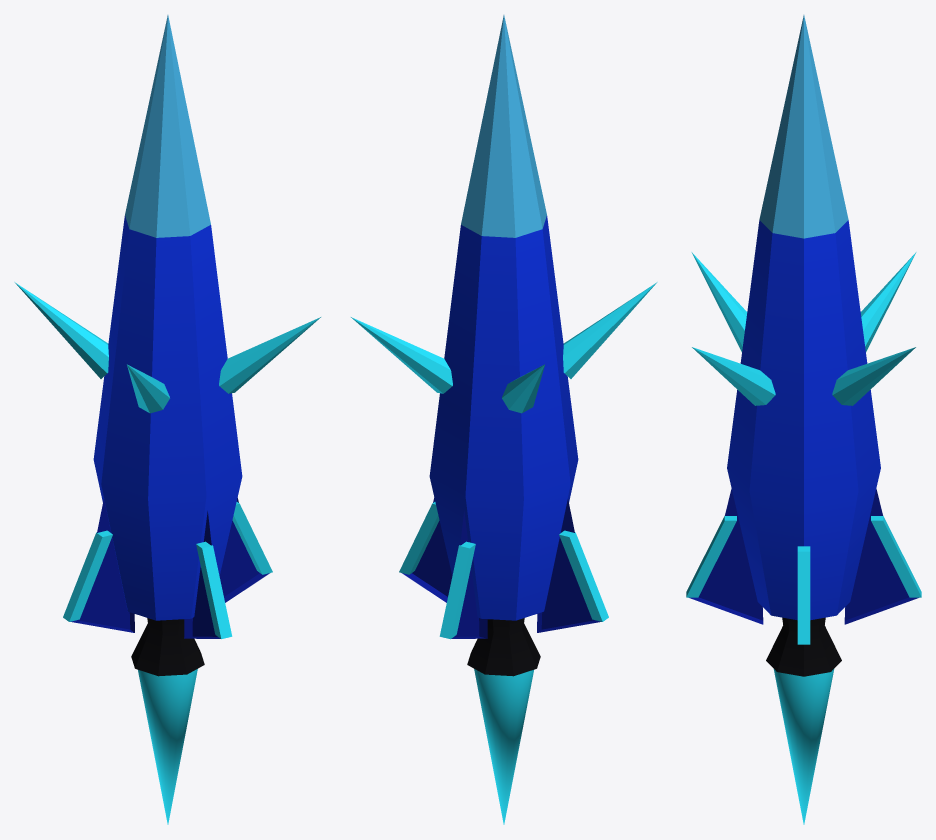
Rendered from Rocket_38_GlacierCrystal.obj.
The picture shows the model from 3 angles, left to right: view 1: azimuth 30°, elevation 25°; view 2: azimuth 150°, elevation 25°; view 3: azimuth 270°, elevation 25°; orthographic projection.
Parts seen in each view (by area): view 1: R38_Body, R38_Nose, R38_Flame_1, R38_Nozzle_1, R38_Fin_2, R38_Spike_4, R38_Spike_2, R38_Fin_4, R38_FinGlow_3, R38_FinGlow_2, R38_Fin_3, R38_Spike_3 (+1 smaller); view 2: R38_Body, R38_Nose, R38_Flame_1, R38_Nozzle_1, R38_Fin_2, R38_Spike_1, R38_Spike_3, R38_Fin_4, R38_FinGlow_1, R38_FinGlow_2, R38_Fin_1, R38_Spike_2 (+1 smaller); view 3: R38_Body, R38_Nose, R38_Flame_1, R38_Fin_1, R38_Fin_3, R38_Nozzle_1, R38_Spike_1, R38_Spike_4, R38_FinGlow_4, R38_Spike_2, R38_Spike_3, R38_FinGlow_1 (+1 smaller).
Part boxes in pixels (x1,y1,x2,y2): R38_Body: (93,216,242,620); R38_Nose: (125,15,210,237); R38_Flame_1: (138,669,197,824); R38_Nozzle_1: (131,618,204,676); R38_Fin_2: (70,499,134,632); R38_Spike_4: (219,317,320,393); R38_Spike_2: (14,282,108,378); R38_Fin_4: (219,498,269,602); R38_FinGlow_3: (196,541,232,639); R38_FinGlow_2: (63,530,112,621); R38_Fin_3: (184,511,220,638); R38_Spike_3: (127,364,169,413); R38_Body: (429,216,578,620); R38_Nose: (461,15,546,237); R38_Flame_1: (474,669,533,824); R38_Nozzle_1: (467,618,540,676); R38_Fin_2: (537,499,601,632); R38_Spike_1: (351,317,452,393); R38_Spike_3: (563,282,657,378); R38_Fin_4: (402,498,452,602); R38_FinGlow_1: (439,541,475,639); R38_FinGlow_2: (559,530,608,621); R38_Fin_1: (451,511,487,638); R38_Spike_2: (502,364,544,413); R38_Body: (727,220,880,620); R38_Nose: (759,15,848,238); R38_Flame_1: (773,669,834,824); R38_Fin_1: (844,489,918,624); R38_Fin_3: (689,489,763,624); R38_Nozzle_1: (766,617,841,676); R38_Spike_1: (832,347,915,405); R38_Spike_4: (692,347,775,405); R38_FinGlow_4: (797,546,810,644); R38_Spike_2: (860,252,916,351); R38_Spike_3: (691,252,747,351); R38_FinGlow_1: (871,516,921,597).
Bounding box in the file's own units: 2.9 × 11.05 × 2.9.
